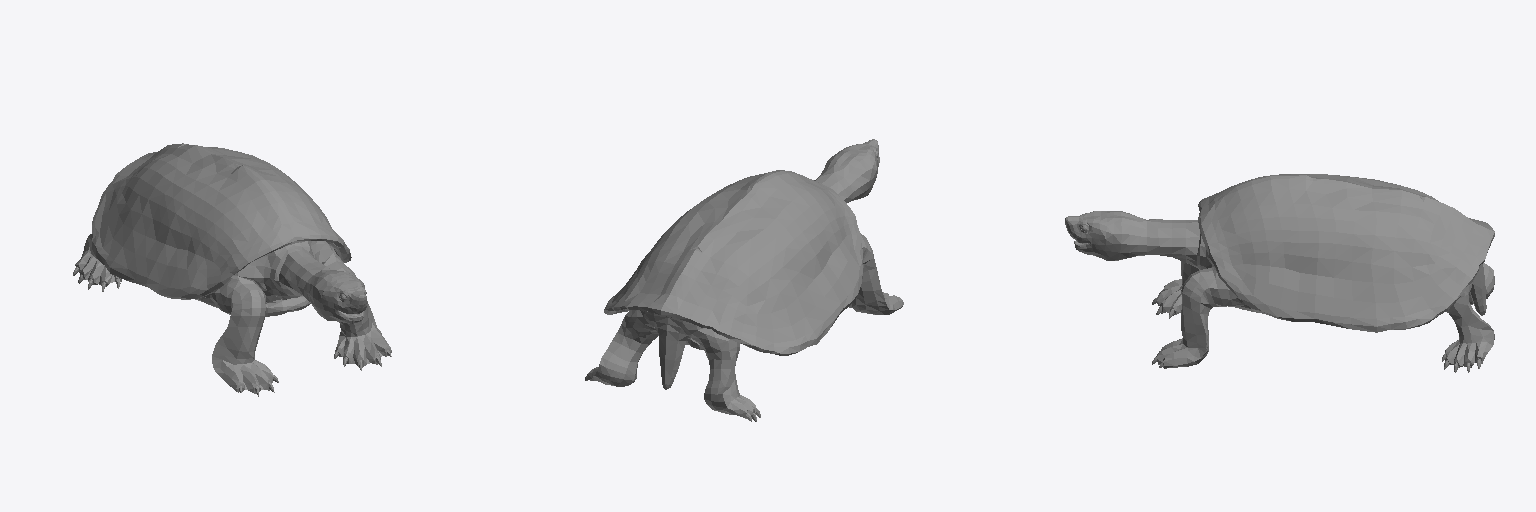
File: RedHeadsTurtle.obj
3 views of the same model, side by side, from view 1: azimuth 30°, elevation 25°; view 2: azimuth 150°, elevation 25°; view 3: azimuth 270°, elevation 25° (orthographic).
Parts seen in each view (by area): view 1: RedHeadsTurtle; view 2: RedHeadsTurtle; view 3: RedHeadsTurtle.
Part boxes in pixels (bbox=[...]): RedHeadsTurtle: bbox=[73, 143, 391, 396]; RedHeadsTurtle: bbox=[585, 139, 903, 421]; RedHeadsTurtle: bbox=[1065, 174, 1494, 372].
Bounding box in the file's own units: 19073 × 15103 × 36416.